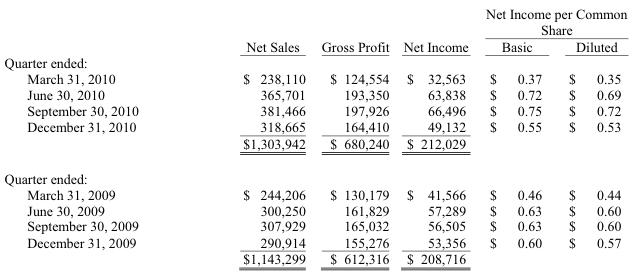table: (3, 4, 626, 267)
table column: (3, 4, 190, 267), (190, 4, 312, 267), (312, 4, 395, 267), (395, 4, 476, 267), (476, 4, 554, 267), (554, 4, 626, 267)
table column header: (3, 4, 626, 54)
table projected row header: (3, 160, 626, 185), (3, 54, 626, 70)
table row: (3, 4, 626, 37), (3, 134, 626, 160), (3, 160, 626, 185), (3, 249, 626, 267), (3, 37, 626, 54), (3, 54, 626, 70), (3, 70, 626, 86), (3, 86, 626, 102), (3, 102, 626, 118), (3, 118, 626, 134), (3, 185, 626, 201), (3, 201, 626, 217), (3, 217, 626, 233), (3, 233, 626, 249)
table spanning cell: (190, 4, 312, 54), (476, 4, 626, 37), (312, 4, 395, 54), (395, 4, 476, 54)
